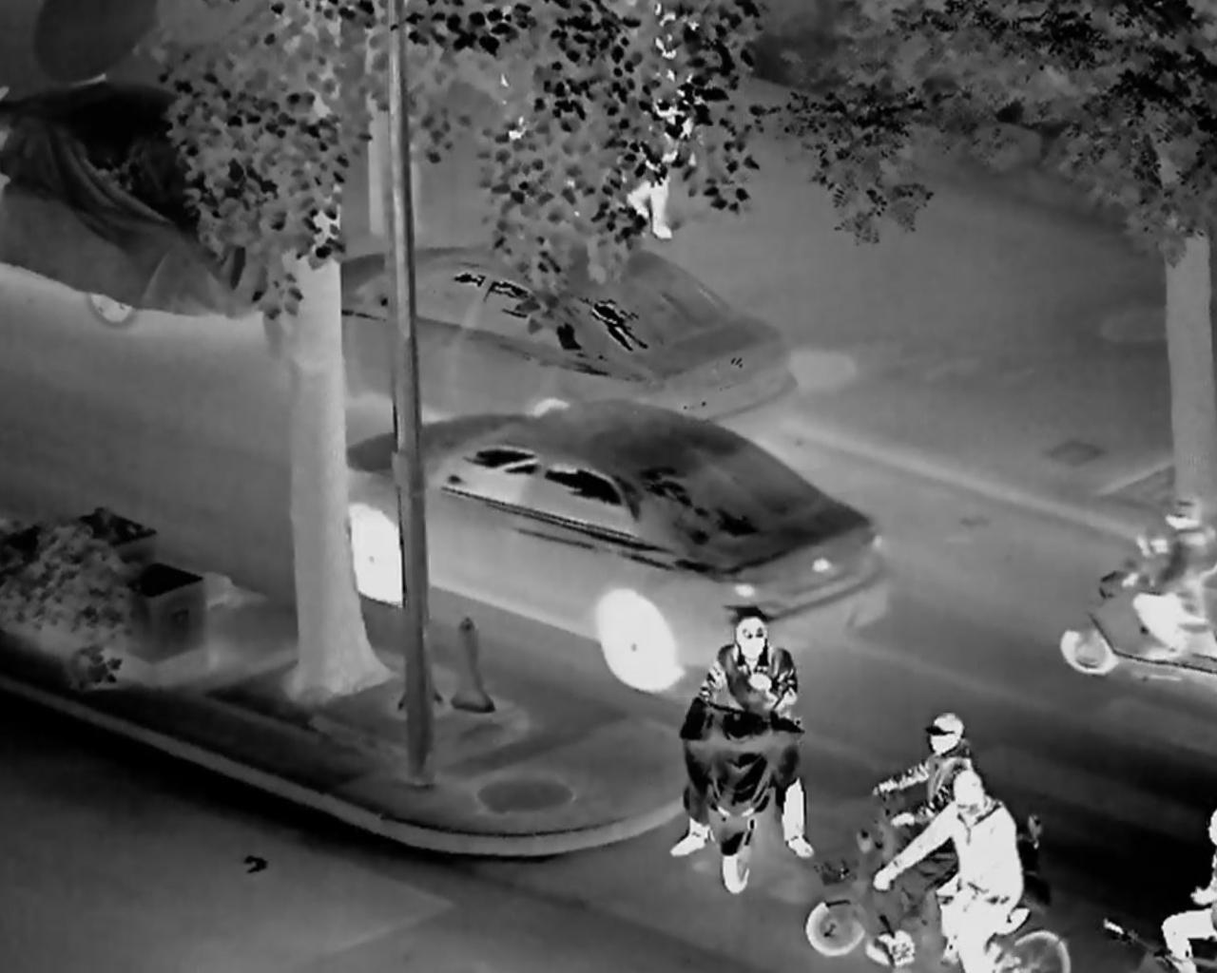person: (661, 584, 835, 868), (877, 769, 1037, 973), (1095, 467, 1217, 667), (591, 21, 687, 255), (883, 700, 970, 827)
